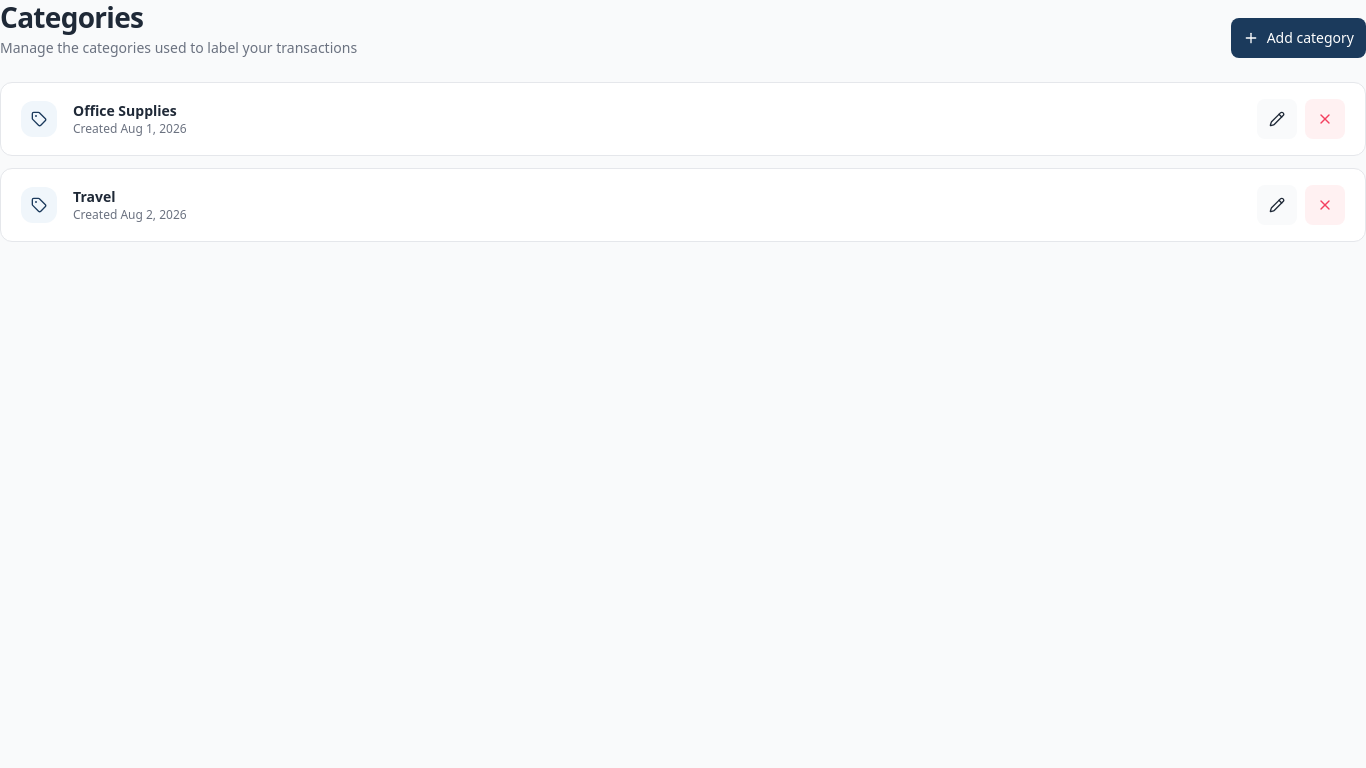
categories › renames a category
Expected: the text "Travel" is shown, [73,187,116,206]
Click the button named "Rename Travel": (1277, 205) [1257,185,1297,225]
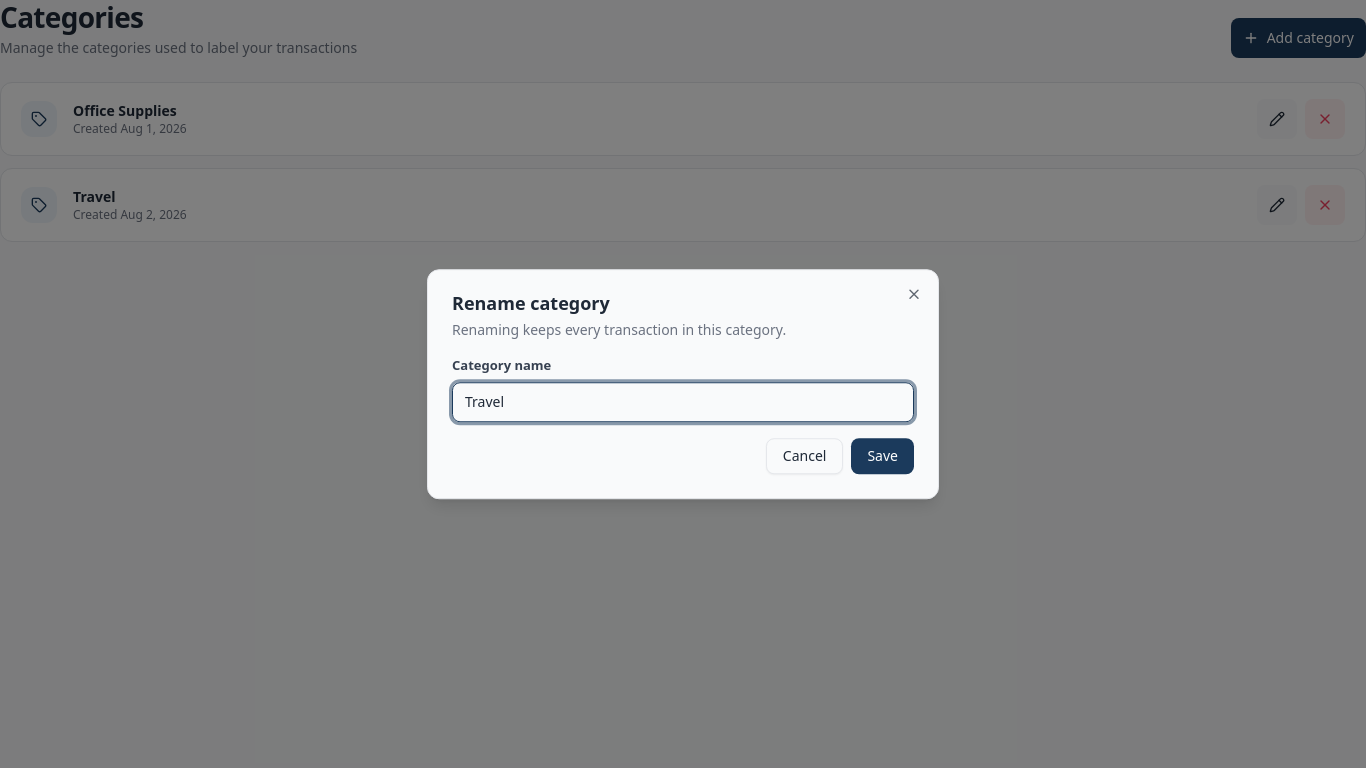
Now the field labelled "Category name" holds "Travel"
Replace the text in the field labelled "Category name" with "Business travel": (683, 402) [452,382,914,422]
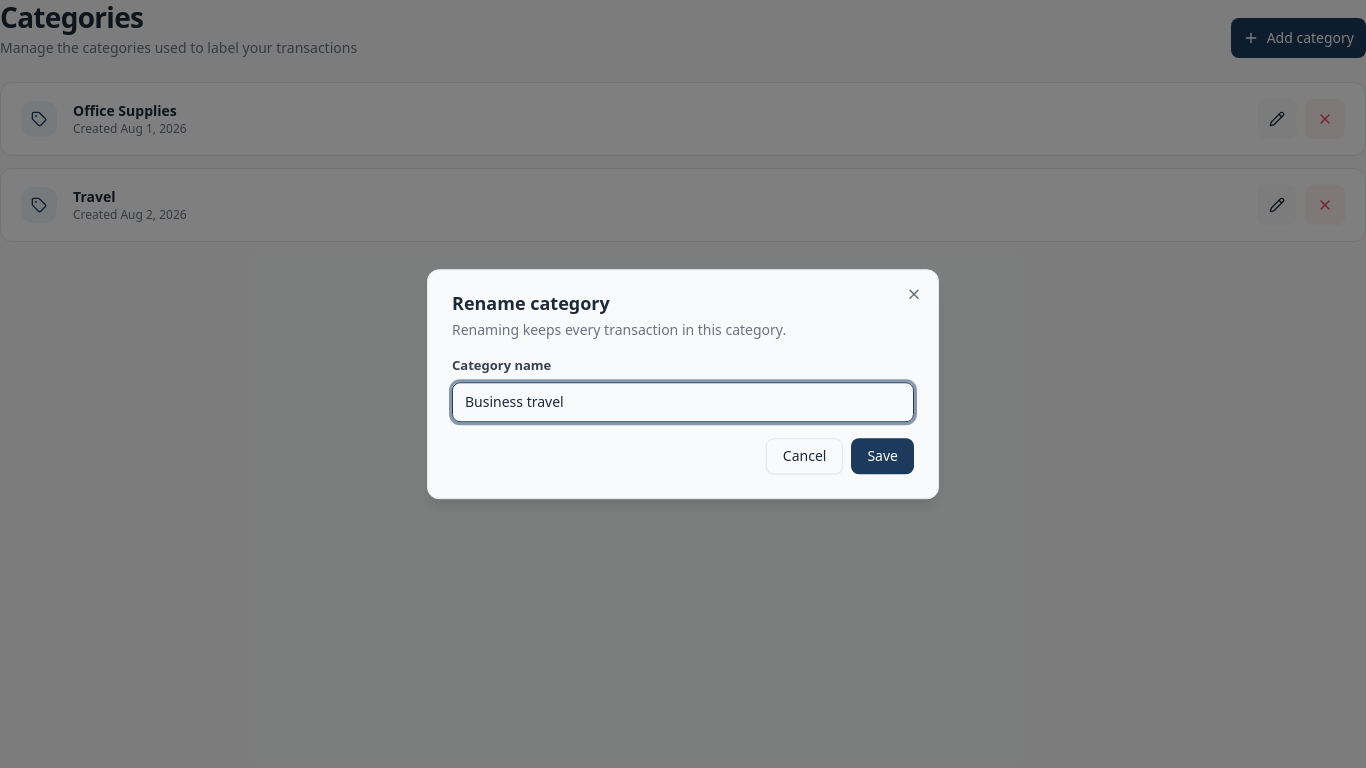
Click the button "Save": (883, 456) [851,438,914,474]
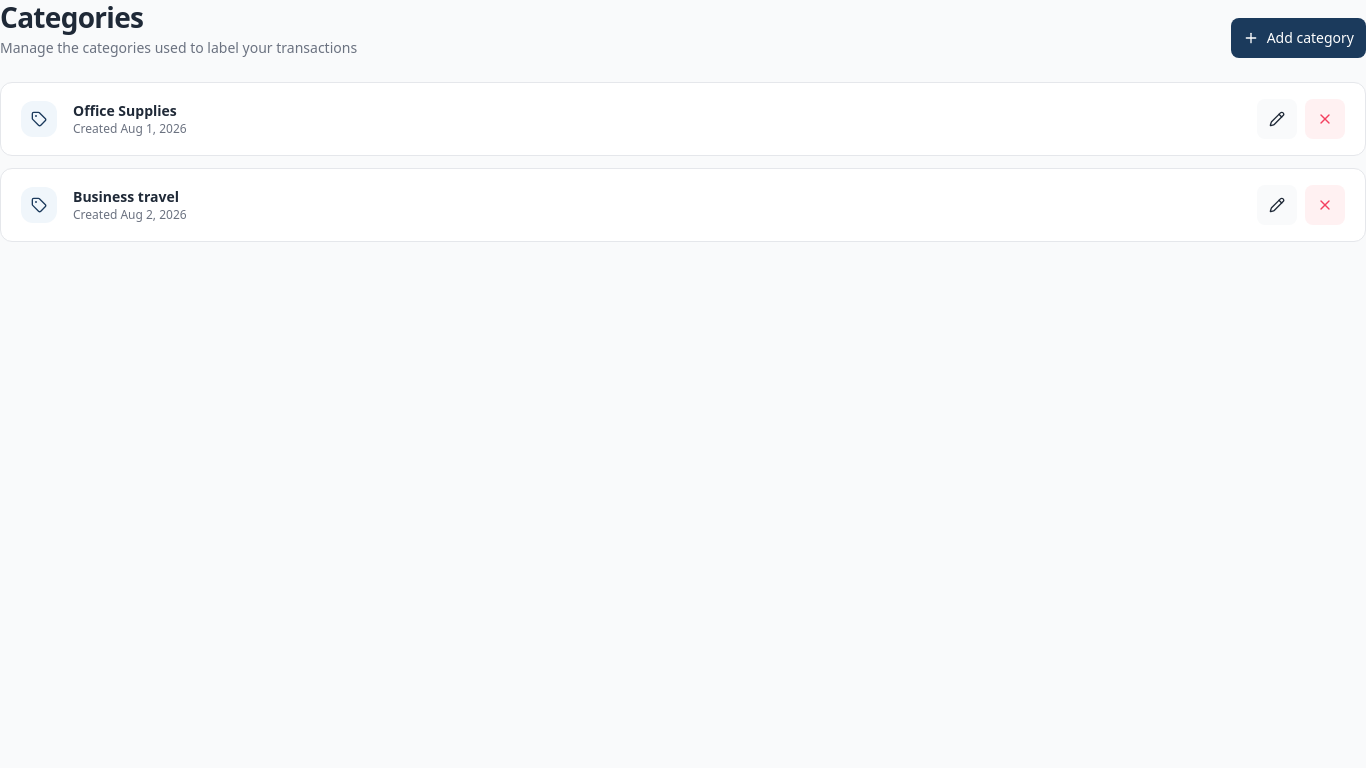
Now the text "Business travel" is shown, box [73,187,179,206]
